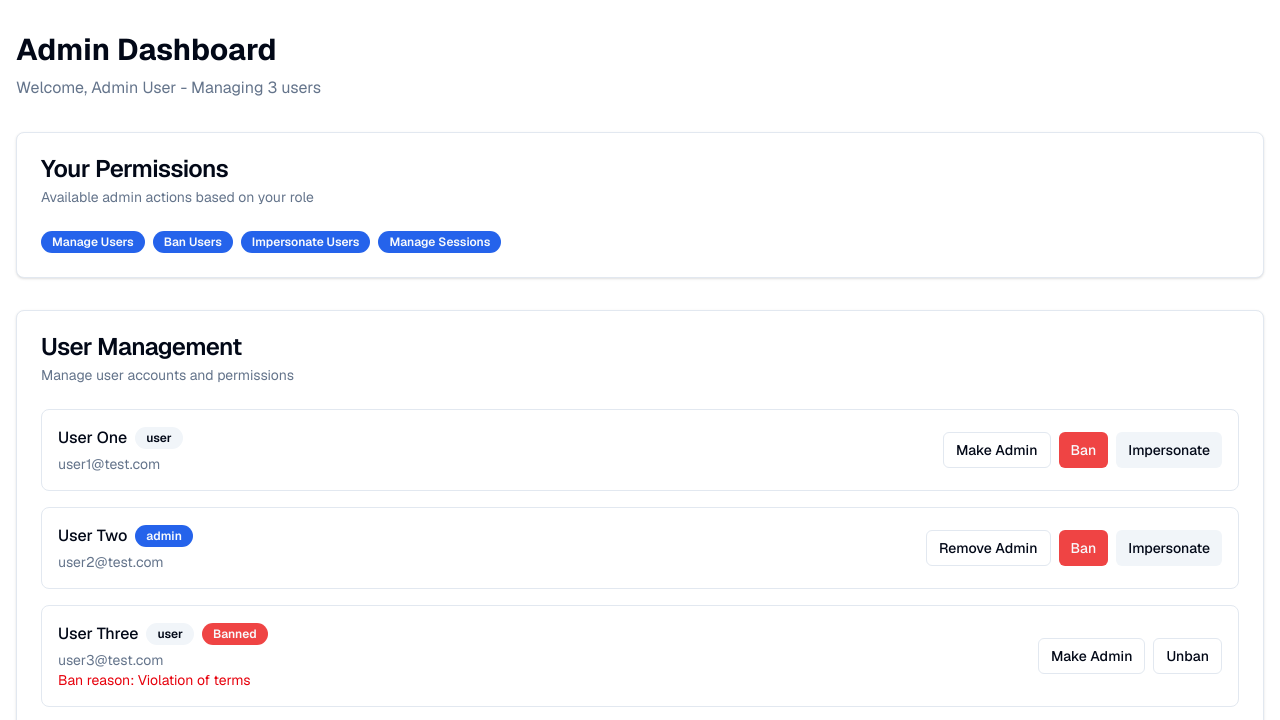
it: AdminDashboard › UI State Updates › should update UI when user is banned successfully
Click the button "Ban" in the row of "user1@test.com".
click(1083, 450)  # box [1058, 432, 1108, 468]
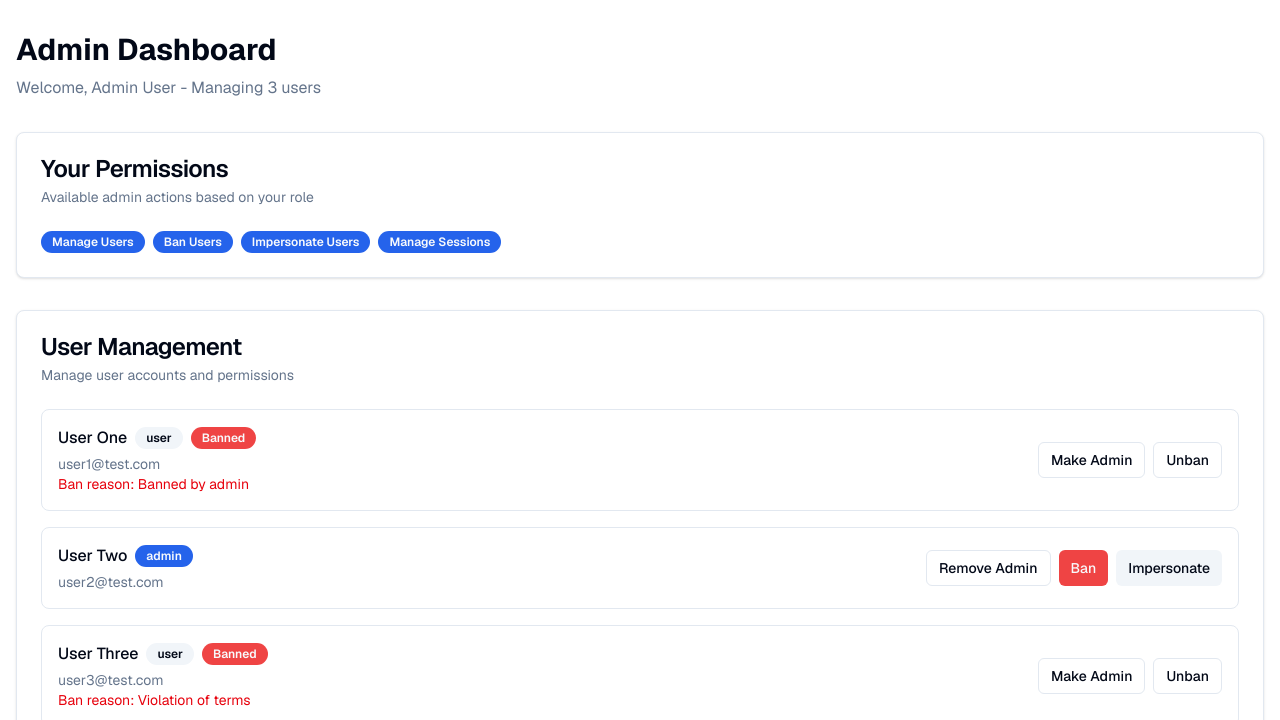
Result: the text "Banned" is shown 2 times at [191, 427, 256, 449]; [202, 643, 268, 665]
